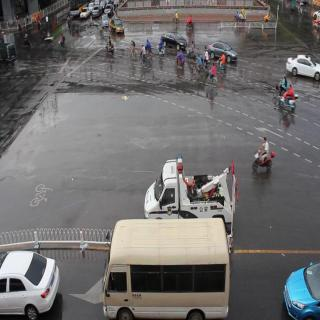BigCar: (102, 214, 230, 320)
Car: (144, 156, 242, 259), (0, 244, 60, 320), (281, 258, 320, 320), (284, 51, 320, 84), (206, 38, 238, 66), (160, 30, 189, 55), (110, 18, 124, 37), (92, 3, 103, 20), (101, 12, 110, 30), (80, 7, 90, 22), (104, 4, 114, 17)
